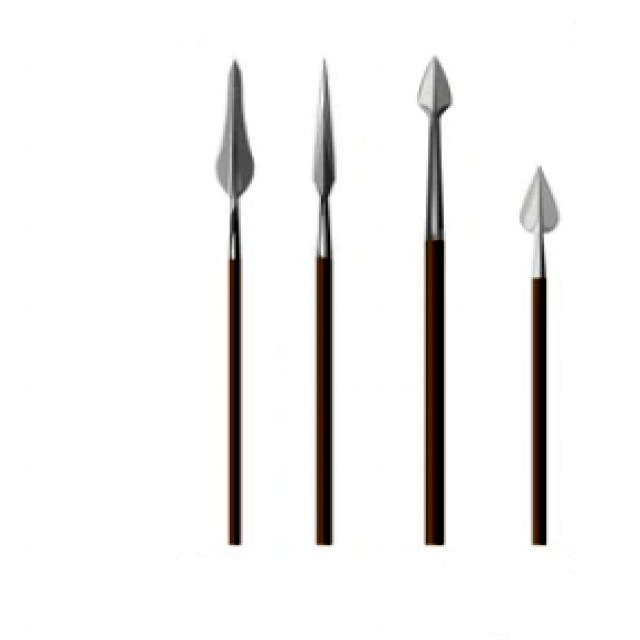spear: (407, 45, 467, 560), (298, 58, 354, 555), (206, 43, 256, 557), (509, 150, 571, 562)
